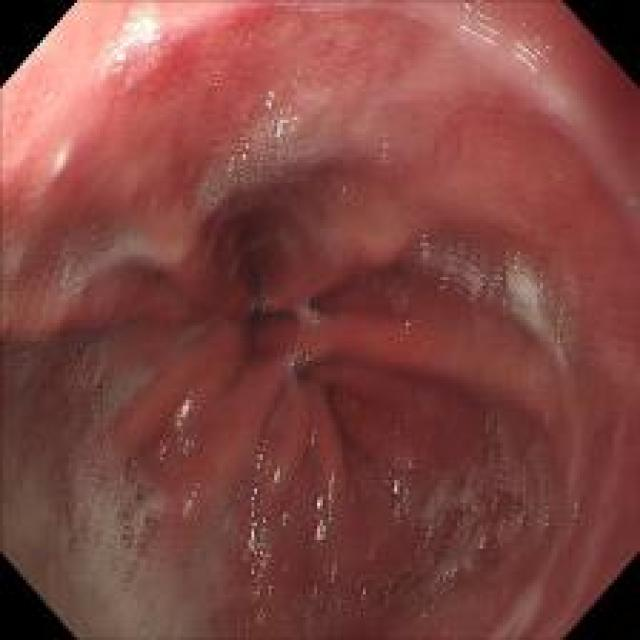blur: (2, 1, 636, 636)
bubbles: (200, 78, 342, 220), (416, 235, 549, 321), (489, 406, 556, 549), (115, 460, 161, 594), (55, 232, 154, 281), (78, 324, 112, 431), (69, 454, 105, 555), (90, 41, 149, 92), (464, 495, 495, 576), (421, 499, 458, 552), (371, 124, 402, 169), (286, 342, 321, 376), (248, 288, 279, 319)
color misalignment: (246, 434, 284, 619), (260, 76, 308, 182), (438, 238, 506, 302), (310, 476, 339, 545), (224, 132, 260, 184), (171, 396, 202, 456), (461, 5, 498, 44), (180, 479, 209, 525), (389, 471, 409, 528), (370, 128, 400, 166), (518, 38, 546, 76), (154, 436, 174, 470), (382, 574, 398, 608), (355, 580, 372, 608), (304, 302, 322, 328), (326, 562, 342, 589), (208, 182, 226, 204), (309, 576, 322, 605), (419, 236, 434, 259), (534, 264, 546, 291), (475, 529, 489, 552), (509, 246, 522, 268)
